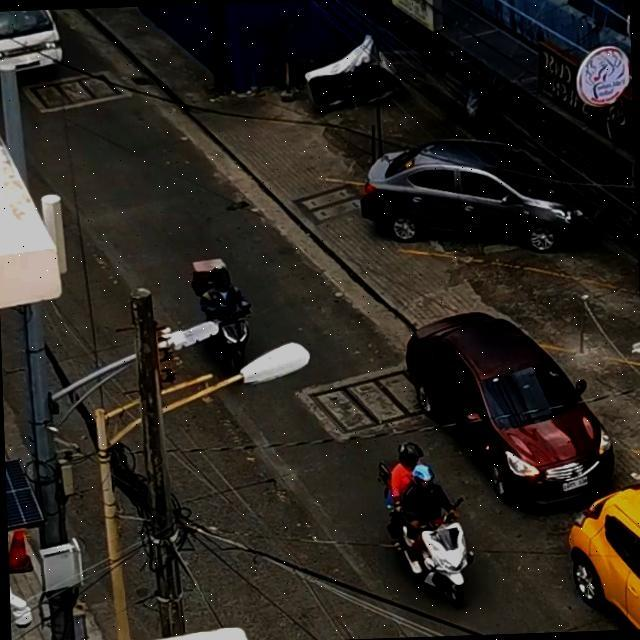Motorcycle: (382, 459, 474, 604), (176, 263, 285, 384)
